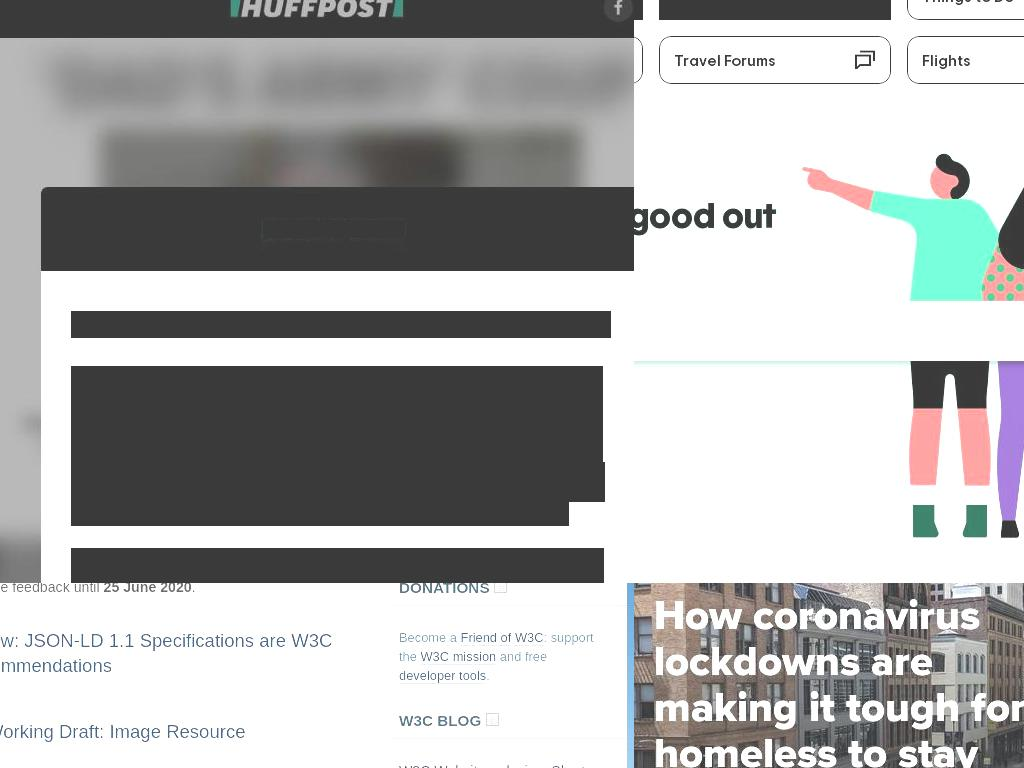button: (634, 583, 1024, 768), (0, 630, 333, 679), (659, 36, 891, 84), (0, 721, 246, 745), (907, 36, 1024, 84), (659, 0, 891, 20), (263, 220, 405, 238), (907, 0, 1024, 20), (398, 668, 486, 685), (460, 630, 544, 647), (420, 649, 497, 666)
field: (634, 301, 1024, 361)
heading: (654, 594, 1024, 768), (0, 630, 333, 677), (71, 311, 611, 338), (0, 721, 247, 743), (398, 712, 486, 730), (398, 583, 494, 597), (485, 713, 499, 727), (493, 583, 507, 594)
image: (802, 150, 1024, 539), (634, 583, 1024, 768), (263, 220, 405, 238)
link: (71, 486, 569, 526), (364, 462, 457, 478)
text: (71, 366, 603, 478), (71, 462, 605, 502), (71, 548, 604, 583), (634, 197, 805, 277), (398, 630, 593, 665), (71, 366, 319, 382), (674, 51, 776, 71), (107, 548, 184, 564), (103, 583, 192, 596), (398, 630, 461, 646), (922, 51, 971, 71), (496, 649, 548, 665), (319, 366, 365, 382), (922, 0, 1014, 7), (71, 548, 108, 564), (674, 0, 724, 7), (137, 510, 142, 526), (486, 668, 491, 684), (191, 583, 196, 596)
